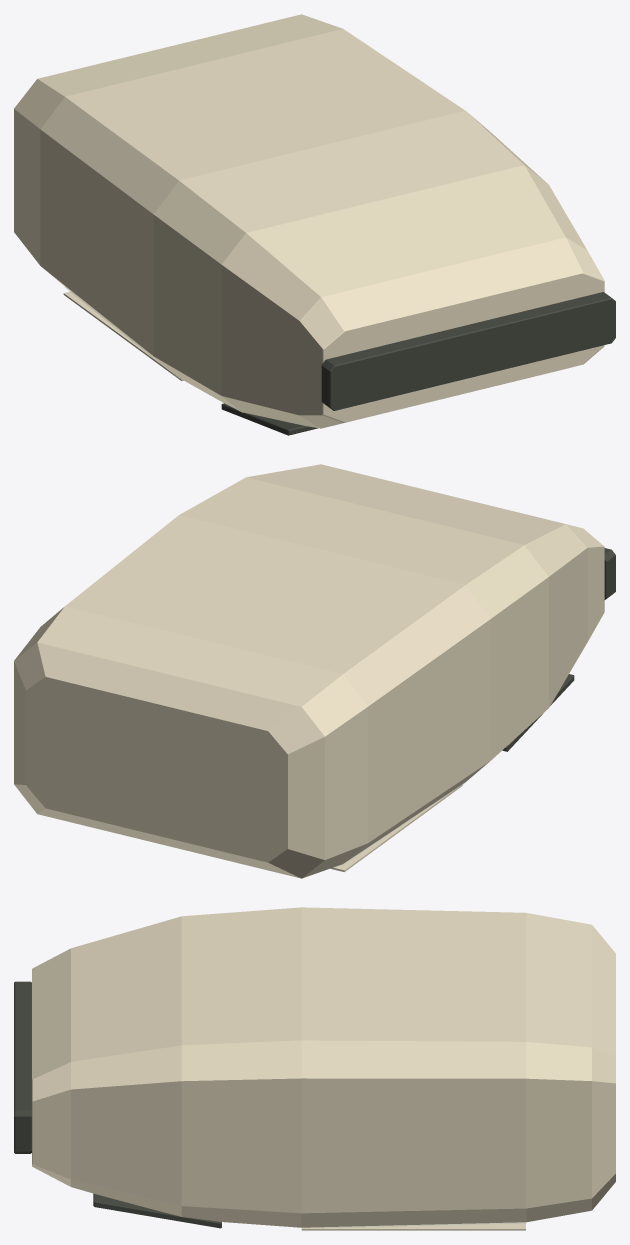
The model's file is black_beans.glb.
The picture shows the model from 3 angles, top to bottom: view 1: azimuth 30°, elevation 25°; view 2: azimuth 150°, elevation 25°; view 3: azimuth 270°, elevation 25°; orthographic projection. The views are drawn at different scales.
Parts seen in each view (by area): view 1: black_beans; view 2: black_beans; view 3: black_beans.
Part boxes in pixels (x1,y1,x2,y2): black_beans: [14, 14, 615, 435]; black_beans: [14, 464, 615, 878]; black_beans: [14, 907, 615, 1230].
Size of the model in its own units: 0.1236 by 0.0706 by 0.201.
